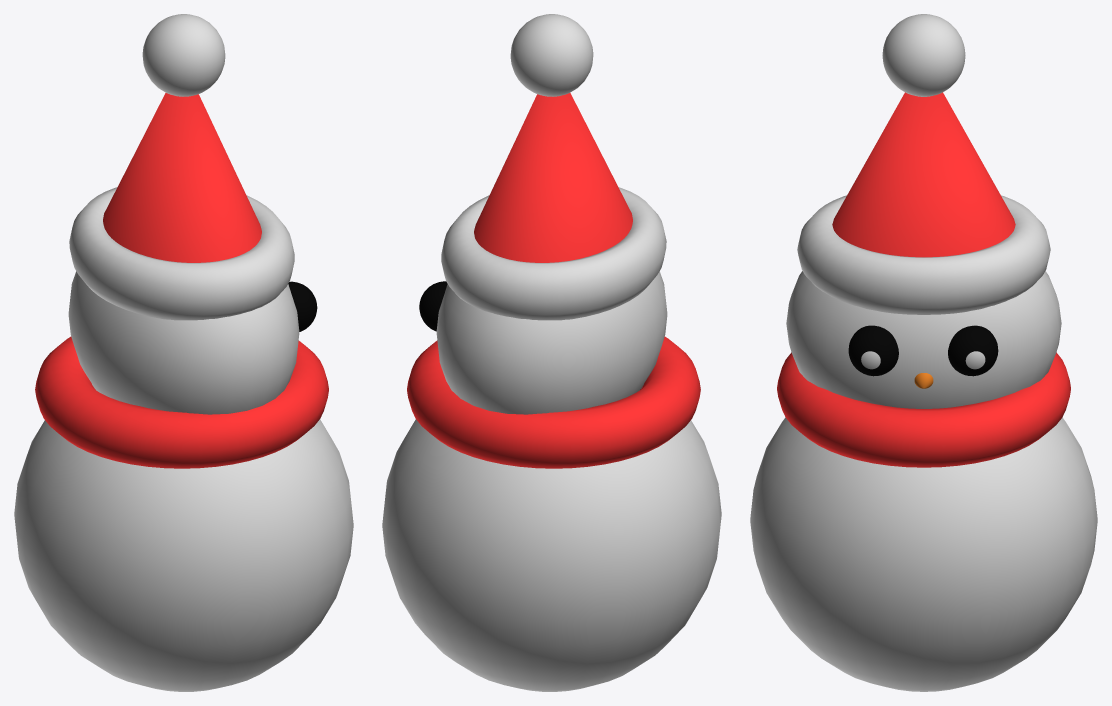
Rendered from Snowman.fbx.
The picture shows the model from 3 angles, left to right: view 1: azimuth 30°, elevation 25°; view 2: azimuth 150°, elevation 25°; view 3: azimuth 270°, elevation 25°; orthographic projection.
Visible parts, largest first — view 1: Snowman; view 2: Snowman; view 3: Snowman.
Part boxes in pixels (<box>): Snowman: <box>14,14,353,691</box>; Snowman: <box>382,14,721,691</box>; Snowman: <box>750,14,1097,691</box>.
Bounding box in the file's own units: 104 × 223 × 107.
